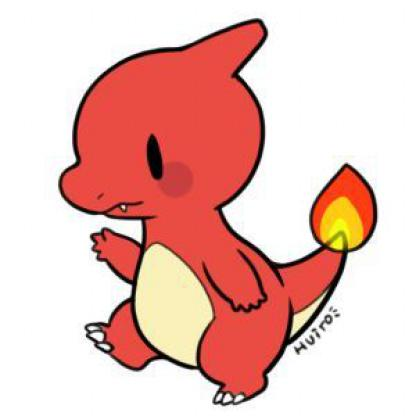Charmeleon: (36, 8, 396, 416)
